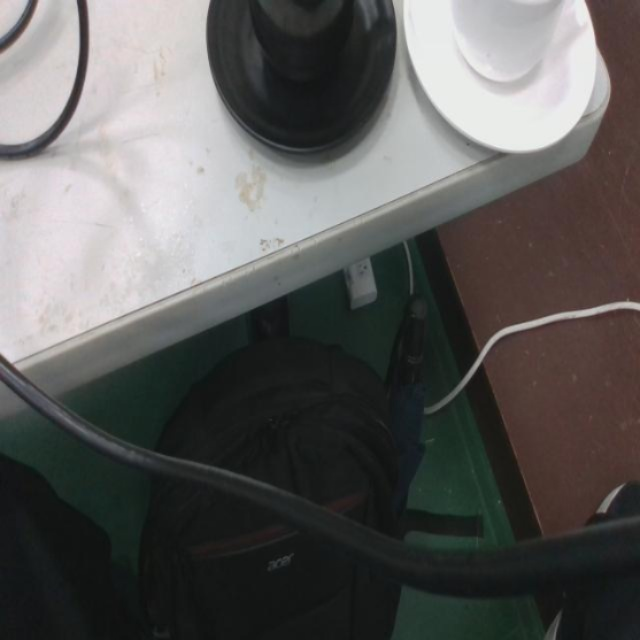black: (202, 0, 398, 161)
white: (401, 0, 599, 161)
